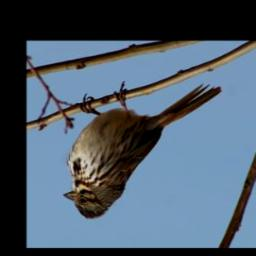Sparrow: (62, 82, 224, 220)
